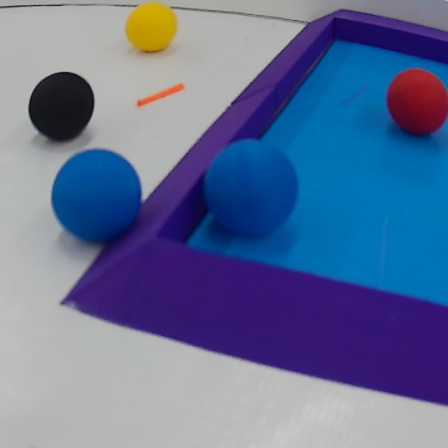black: (25, 68, 104, 145)
blue: (49, 145, 145, 247), (202, 138, 300, 236)
blue_aim: (62, 7, 448, 408)
red: (382, 69, 448, 139)
yellow: (123, 0, 179, 53)
